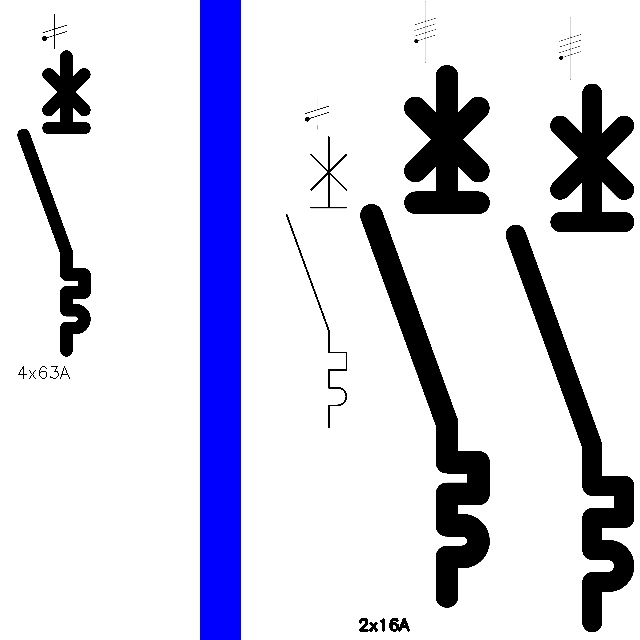interruptor_termomagnetico: (502, 79, 638, 635), (358, 62, 492, 609), (16, 49, 92, 358), (279, 129, 354, 435)
